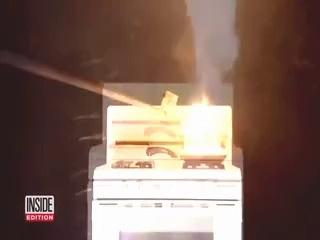Fire: (177, 81, 222, 162)
